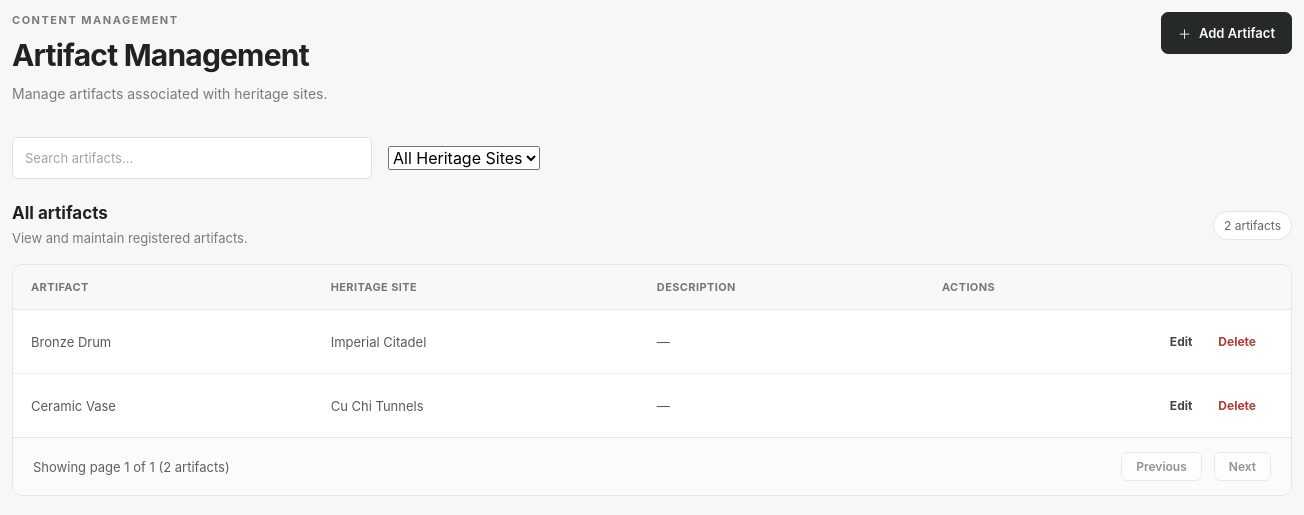
Test: ArtifactsPage — CRUD request behavior › cancels or confirms deletion and refreshes only after confirmation
Click the button "Delete" in the row of "Ceramic Vase". click: click(1237, 406)
box: [1209, 391, 1265, 420]
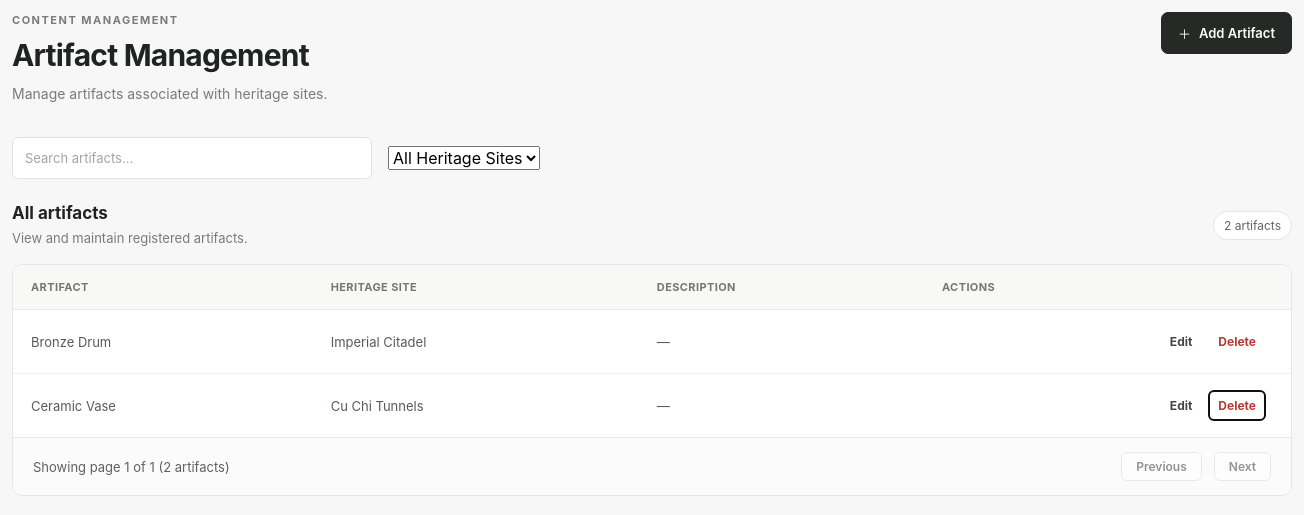
Expected: the text "Ceramic Vase" is shown, [13, 374, 313, 437]
Click the button "Delete" in the row of "Ceramic Vase". click: click(1237, 406)
box: [1209, 391, 1265, 420]
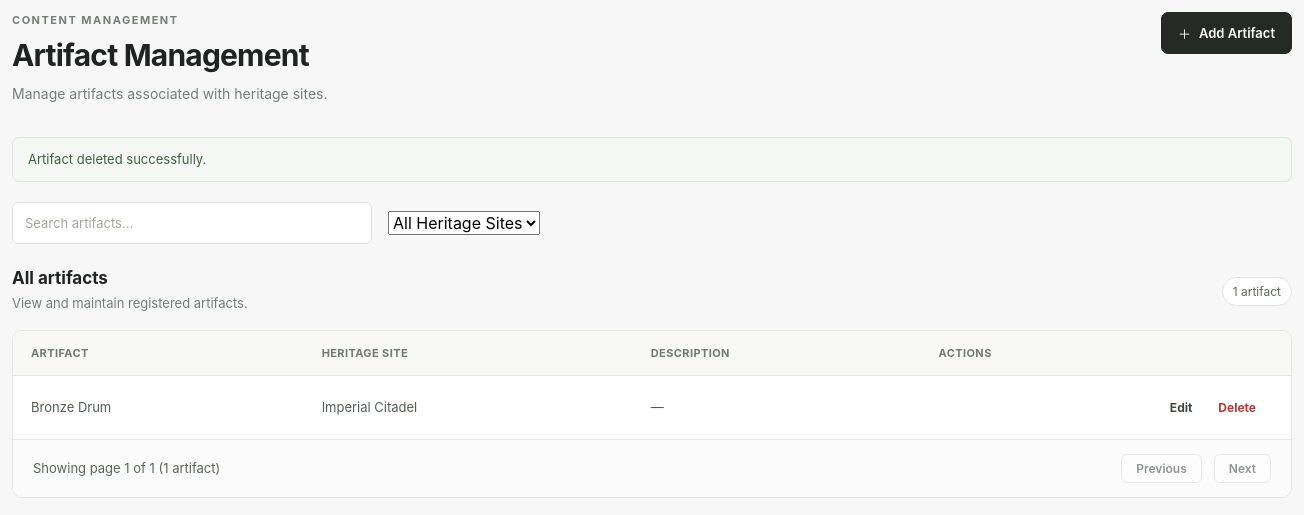
Result: the text "Artifact deleted successfully." is shown at [12, 137, 1292, 182]
Result: the text "Ceramic Vase" is gone
